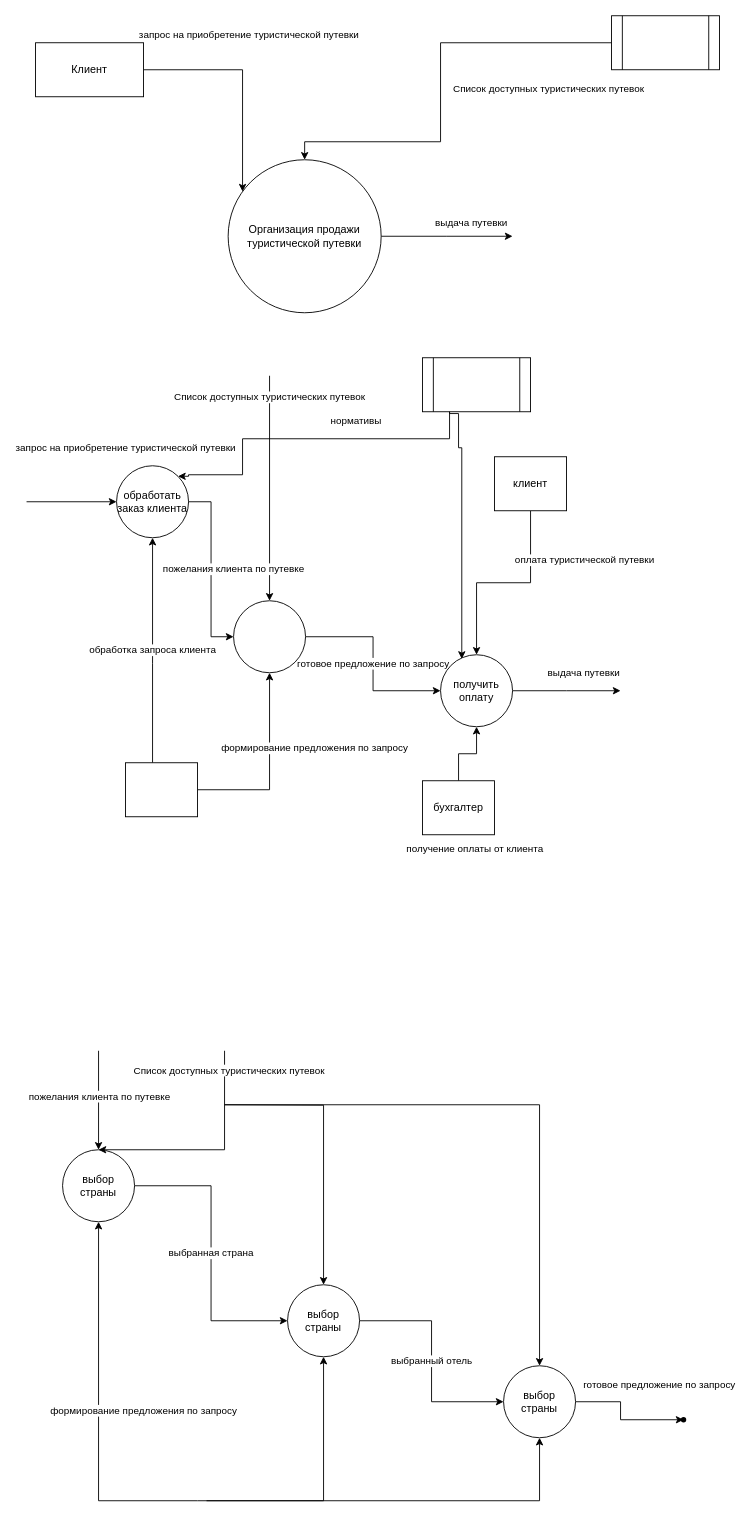
Image size: 750x1524. Some labels were removed from this diagram. Here are the shapes that lost their labels. From the top down, the box of each, then its label:
(611, 15, 720, 70): База данных путевок
(422, 357, 531, 412): Законодательная и нормативно методическая документация
(233, 600, 306, 673): сформировать предложение по запросу
(125, 762, 198, 817): менеджер
